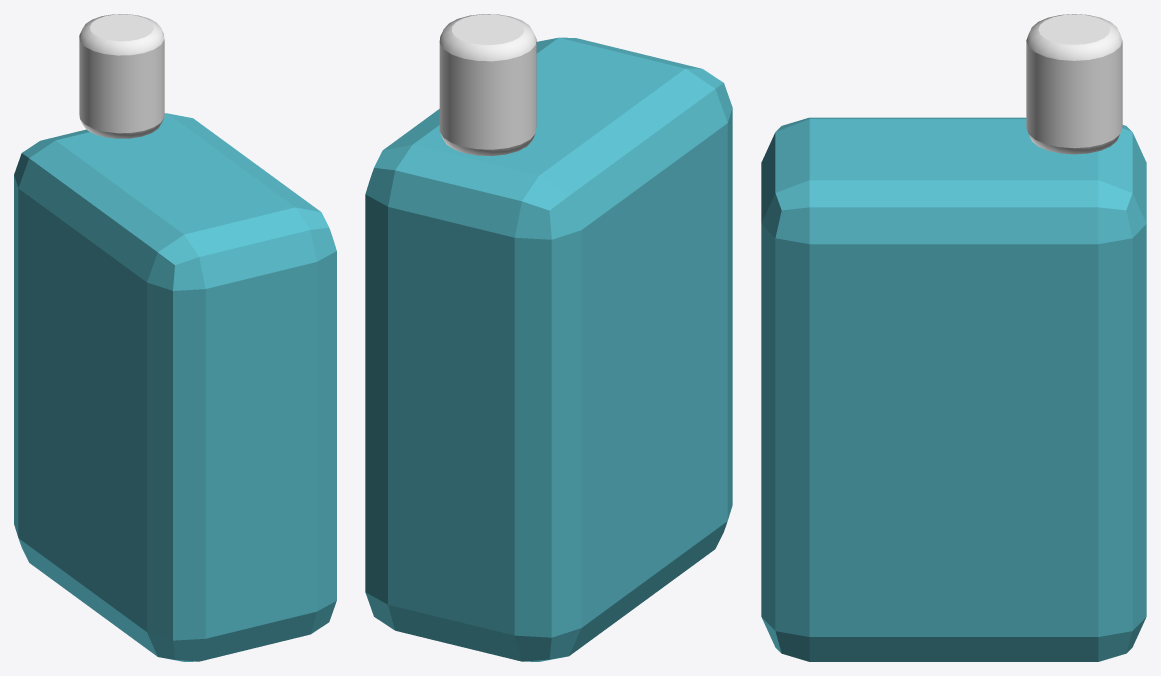
File: coolant_bottle.glb
3 renders of one model, left to right at view 1: azimuth 30°, elevation 25°; view 2: azimuth 150°, elevation 25°; view 3: azimuth 270°, elevation 25°, orthographic. The views are drawn at different scales.
Visible parts, largest first — view 1: coolant_bottle; view 2: coolant_bottle; view 3: coolant_bottle.
Boxes of the visible parts, bbox=[...] form: coolant_bottle: bbox=[14, 14, 336, 661]; coolant_bottle: bbox=[365, 14, 732, 661]; coolant_bottle: bbox=[761, 14, 1146, 661].
Bounding box in the file's own units: 0.1 × 0.275 × 0.16.
